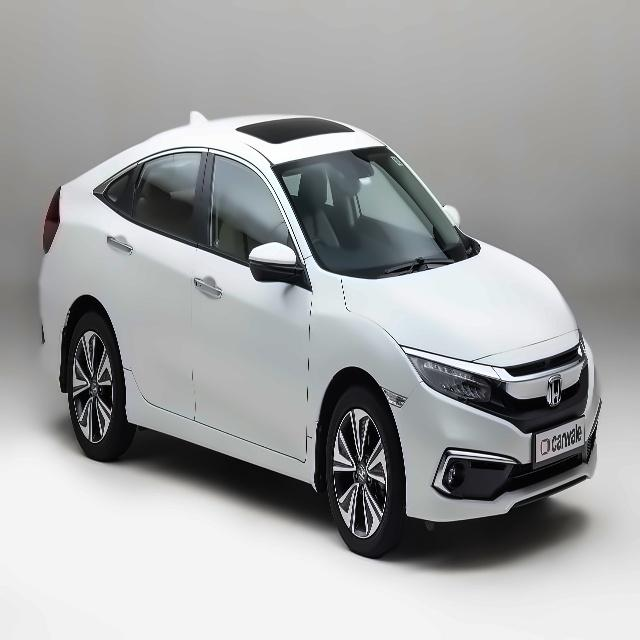Car hood: (341, 234, 587, 370)
Driver-s door - -F-R-: (186, 126, 318, 490)
Fender - -F-R-: (299, 250, 415, 466)
Fender - -R-R-: (51, 143, 127, 380)
Front bumper: (395, 345, 608, 537)
Headlight - -R-: (400, 344, 513, 421)
Passenger-s door - -R-R-: (98, 127, 205, 452)
Rear light - -R-: (34, 175, 67, 266)
Side bumper - -R-: (116, 375, 320, 492)
Side mirror - -R-: (242, 234, 311, 294)
